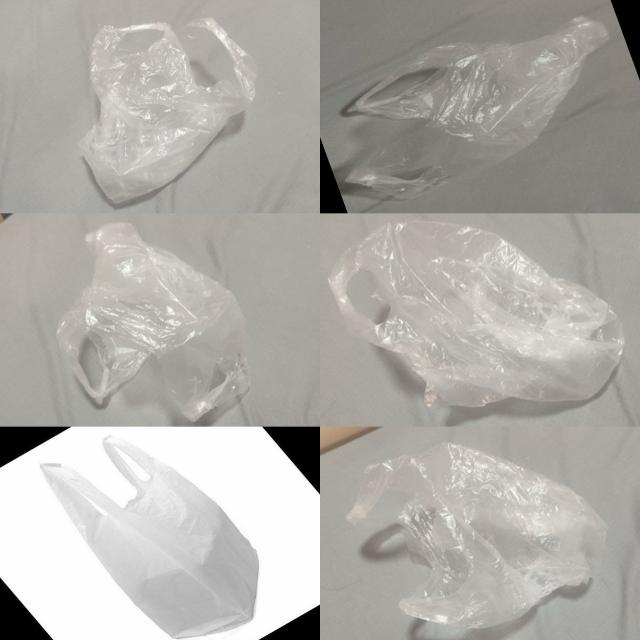Single-layer Plastic: (329, 220, 624, 406), (345, 16, 608, 200), (347, 442, 607, 628), (41, 436, 259, 638), (56, 222, 250, 421), (80, 18, 256, 203)
